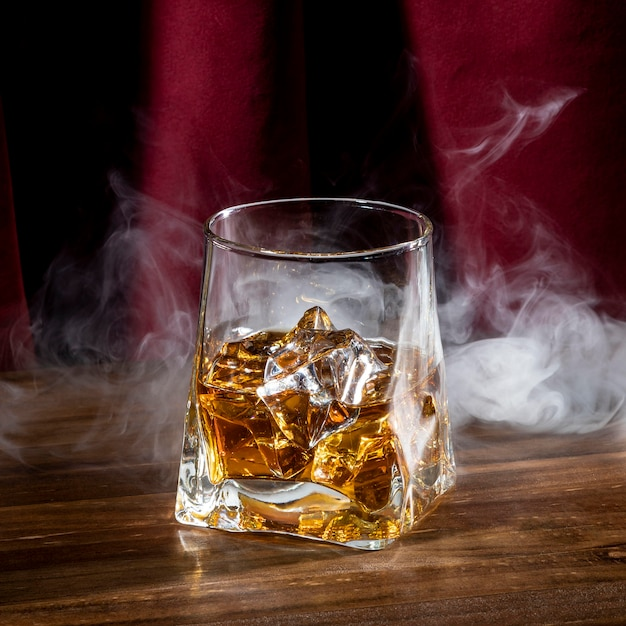alcohol: (171, 200, 462, 549)
